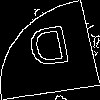D: (25, 25, 75, 77)
